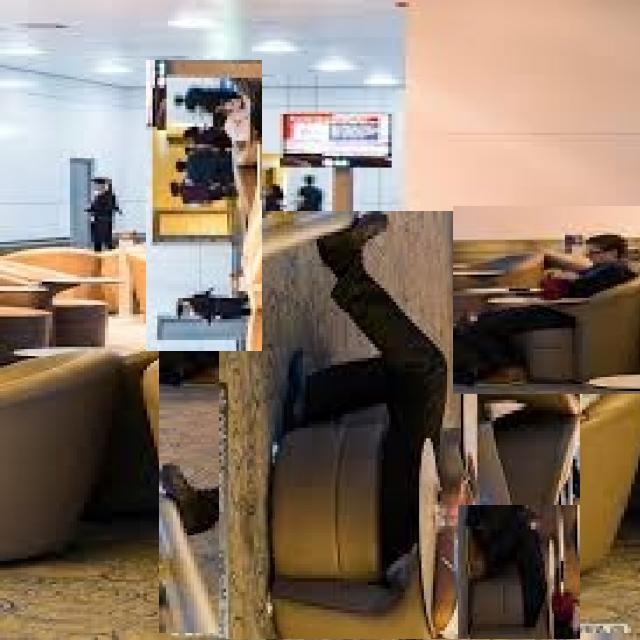NotFall: (217, 261, 580, 640)
